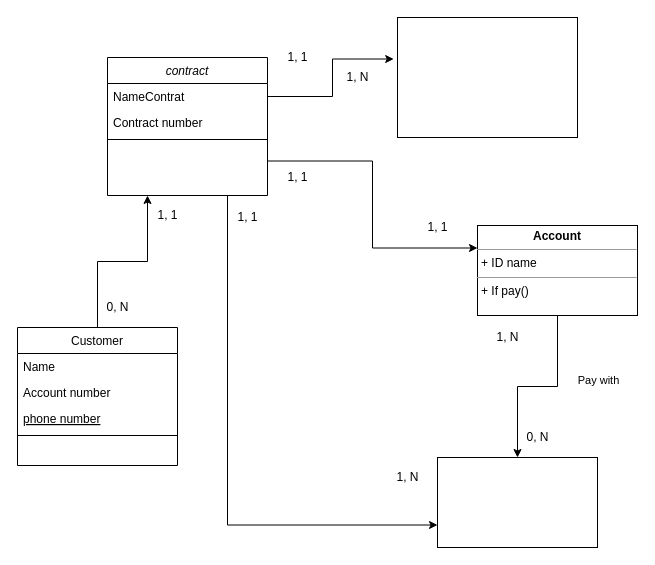
Some shapes in this 655 by 565 pixel diagram are drawn without their labels. Here are the shapes that lost their labels. From the top down, the box of each, then its label:
(396, 16, 578, 138): Recording Contract Number Customer number Validity date If phone changed()
(436, 456, 598, 548): Electricity deposit Number ID
